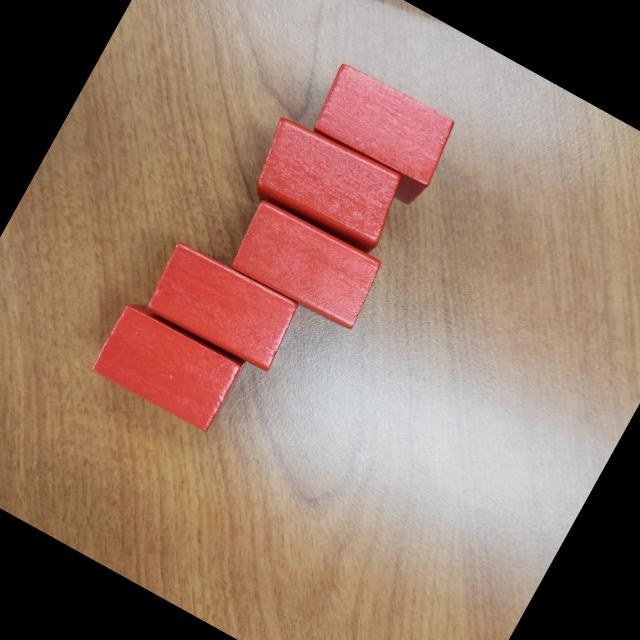red: (297, 60, 463, 211), (242, 111, 412, 258), (226, 194, 390, 334), (142, 238, 306, 376), (90, 298, 248, 437)
